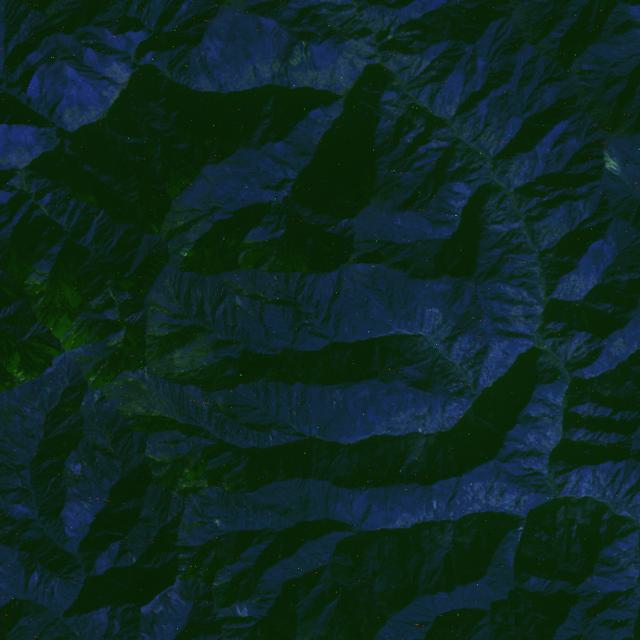landslides: (605, 152, 628, 182), (213, 577, 237, 586), (609, 147, 621, 164), (253, 597, 276, 603), (390, 75, 401, 86), (217, 517, 226, 530), (548, 392, 557, 405), (179, 571, 190, 581), (215, 519, 224, 531), (575, 69, 596, 74), (180, 250, 195, 257), (242, 601, 248, 618)
